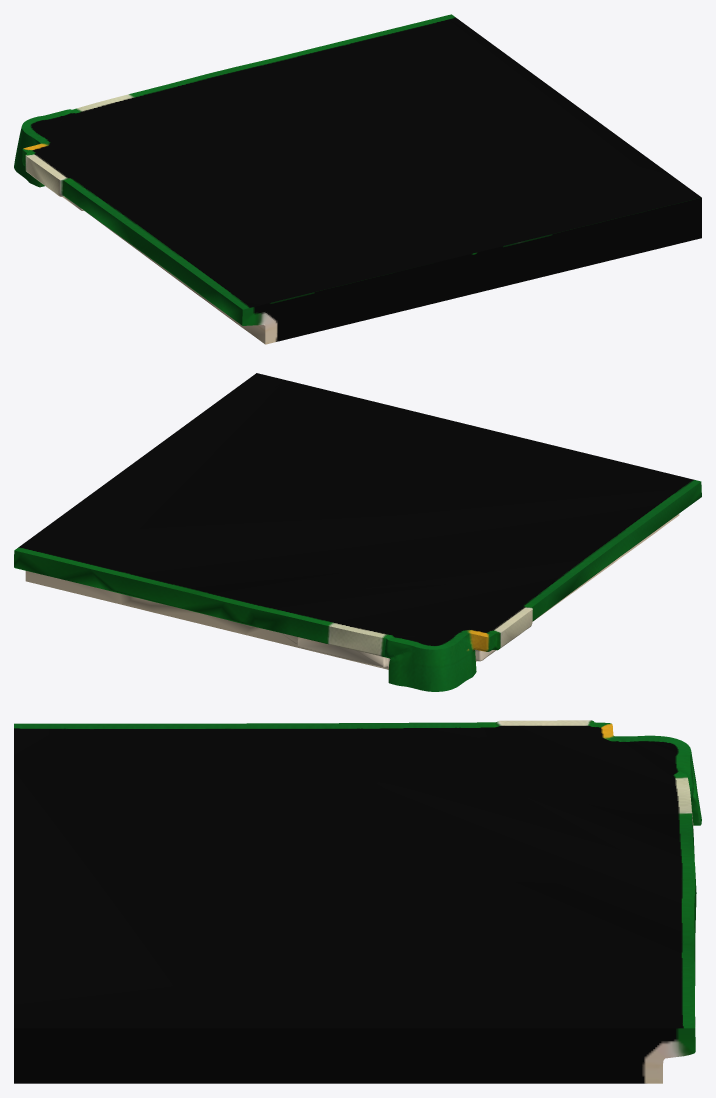
File: 11-roof-back-left.fbx
3 views of the same model, one above another, from view 1: azimuth 30°, elevation 25°; view 2: azimuth 150°, elevation 25°; view 3: azimuth 270°, elevation 25° (orthographic). The views are drawn at different scales.
Visible parts, largest first — view 1: roof-back-left; view 2: roof-back-left; view 3: roof-back-left.
Boxes of the visible parts, box(x1,y1,x2,y2) form: roof-back-left: box(14, 14, 701, 344); roof-back-left: box(14, 373, 701, 691); roof-back-left: box(14, 720, 701, 1083).
Size of the model in its own units: 8728 by 728 by 8238.
1 material, 1 textured.
